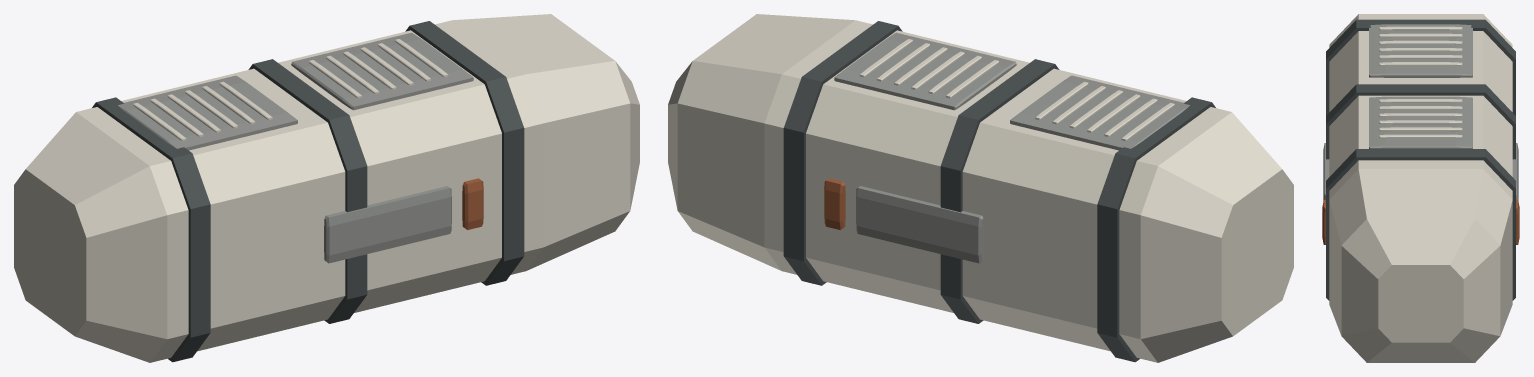
File: quiver-v001.glb
3 views of the same model, side by side, from view 1: azimuth 30°, elevation 25°; view 2: azimuth 150°, elevation 25°; view 3: azimuth 270°, elevation 25° (orthographic). The views are drawn at different scales.
Visible parts, largest first — view 1: quiver-closed-shell, quiver-external-jackets; view 2: quiver-closed-shell, quiver-external-jackets; view 3: quiver-closed-shell, quiver-external-jackets.
Part boxes in pixels (<box>): quiver-closed-shell: <box>14,14,639,362</box>; quiver-external-jackets: <box>92,21,524,362</box>; quiver-closed-shell: <box>668,14,1293,362</box>; quiver-external-jackets: <box>783,21,1215,362</box>; quiver-closed-shell: <box>1329,14,1512,362</box>; quiver-external-jackets: <box>1322,19,1519,300</box>.
Bounding box in the file's own units: 18 × 6.32 × 6.45.
1 material, 1 textured.
